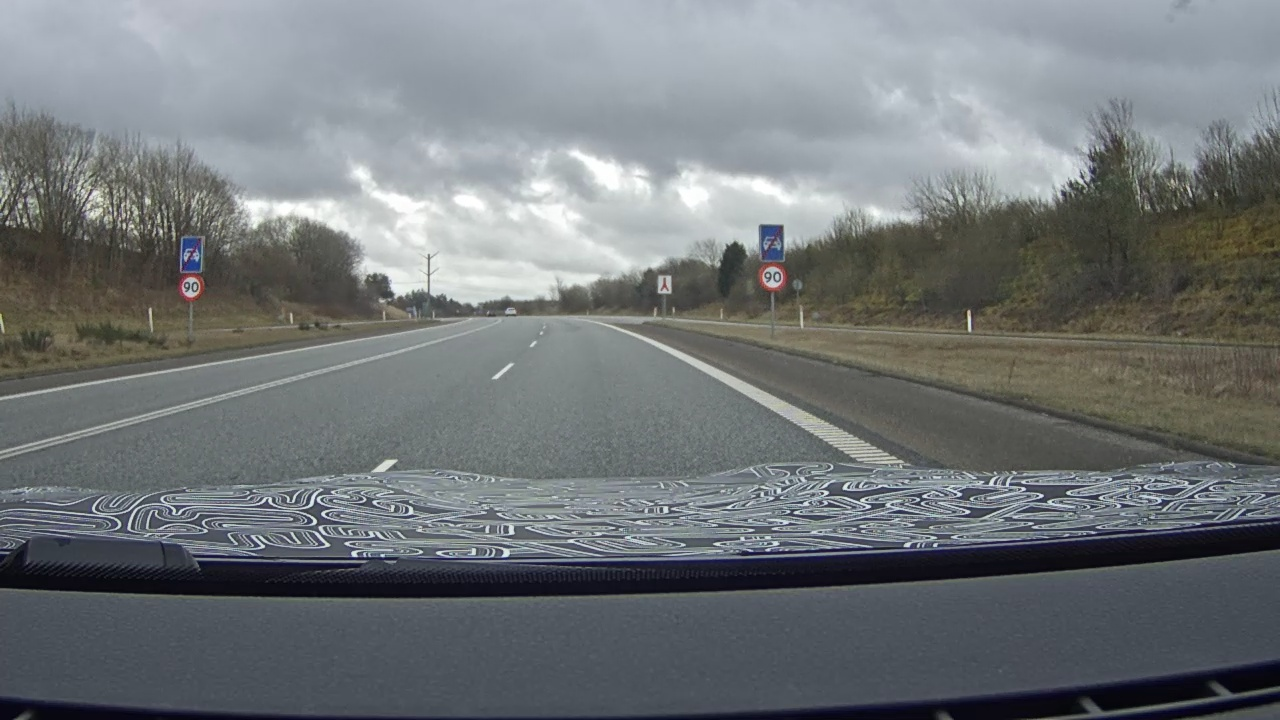Expressway_End: (758, 224, 785, 264), (179, 236, 204, 274)
